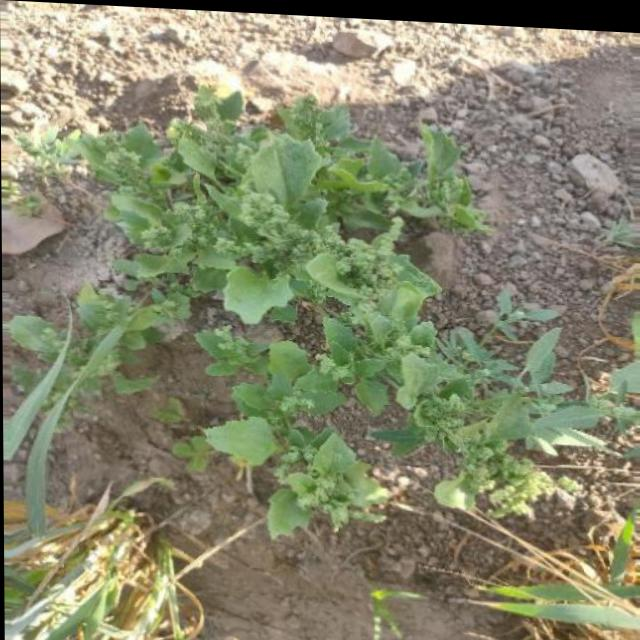weed: (28, 51, 553, 506)
